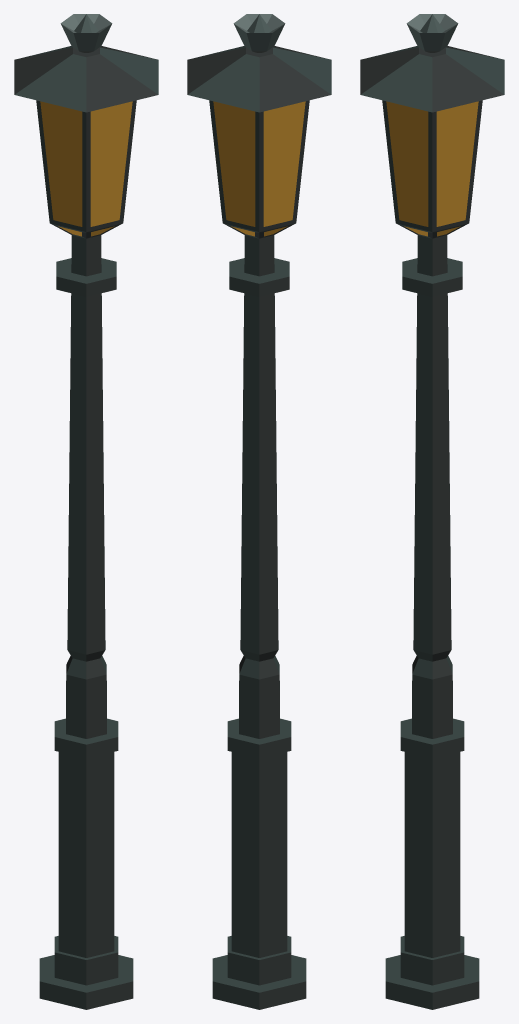
Rendered from TB_CITY_Prop_Streetlamp_A.FBX.
The picture shows the model from 3 angles, left to right: view 1: azimuth 30°, elevation 25°; view 2: azimuth 150°, elevation 25°; view 3: azimuth 270°, elevation 25°; orthographic projection.
Visible parts, largest first — view 1: TB_CITY_Prop_Streetlamp_A; view 2: TB_CITY_Prop_Streetlamp_A; view 3: TB_CITY_Prop_Streetlamp_A.
Boxes of the visible parts, box(x1,y1,x2,y2) form: TB_CITY_Prop_Streetlamp_A: box(14, 14, 158, 1009); TB_CITY_Prop_Streetlamp_A: box(187, 14, 331, 1009); TB_CITY_Prop_Streetlamp_A: box(360, 14, 504, 1009).
Bounding box in the file's own units: 1.06 × 6.82 × 0.917.
